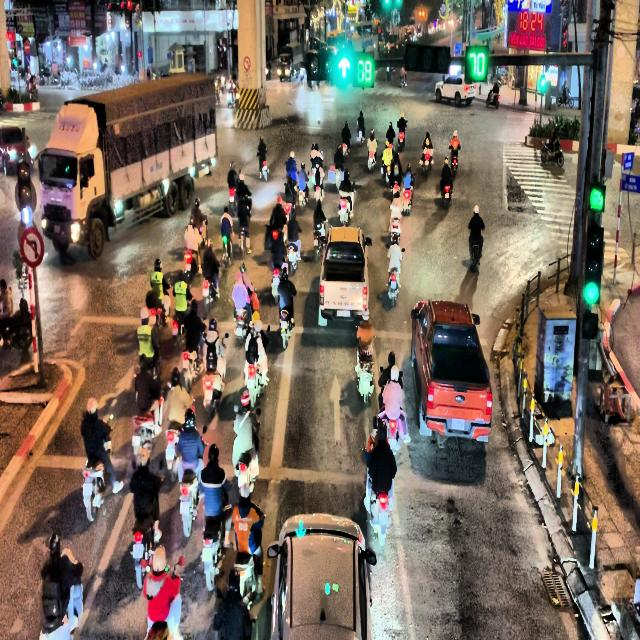lisence_plate: (448, 416, 467, 432), (335, 309, 350, 317)
